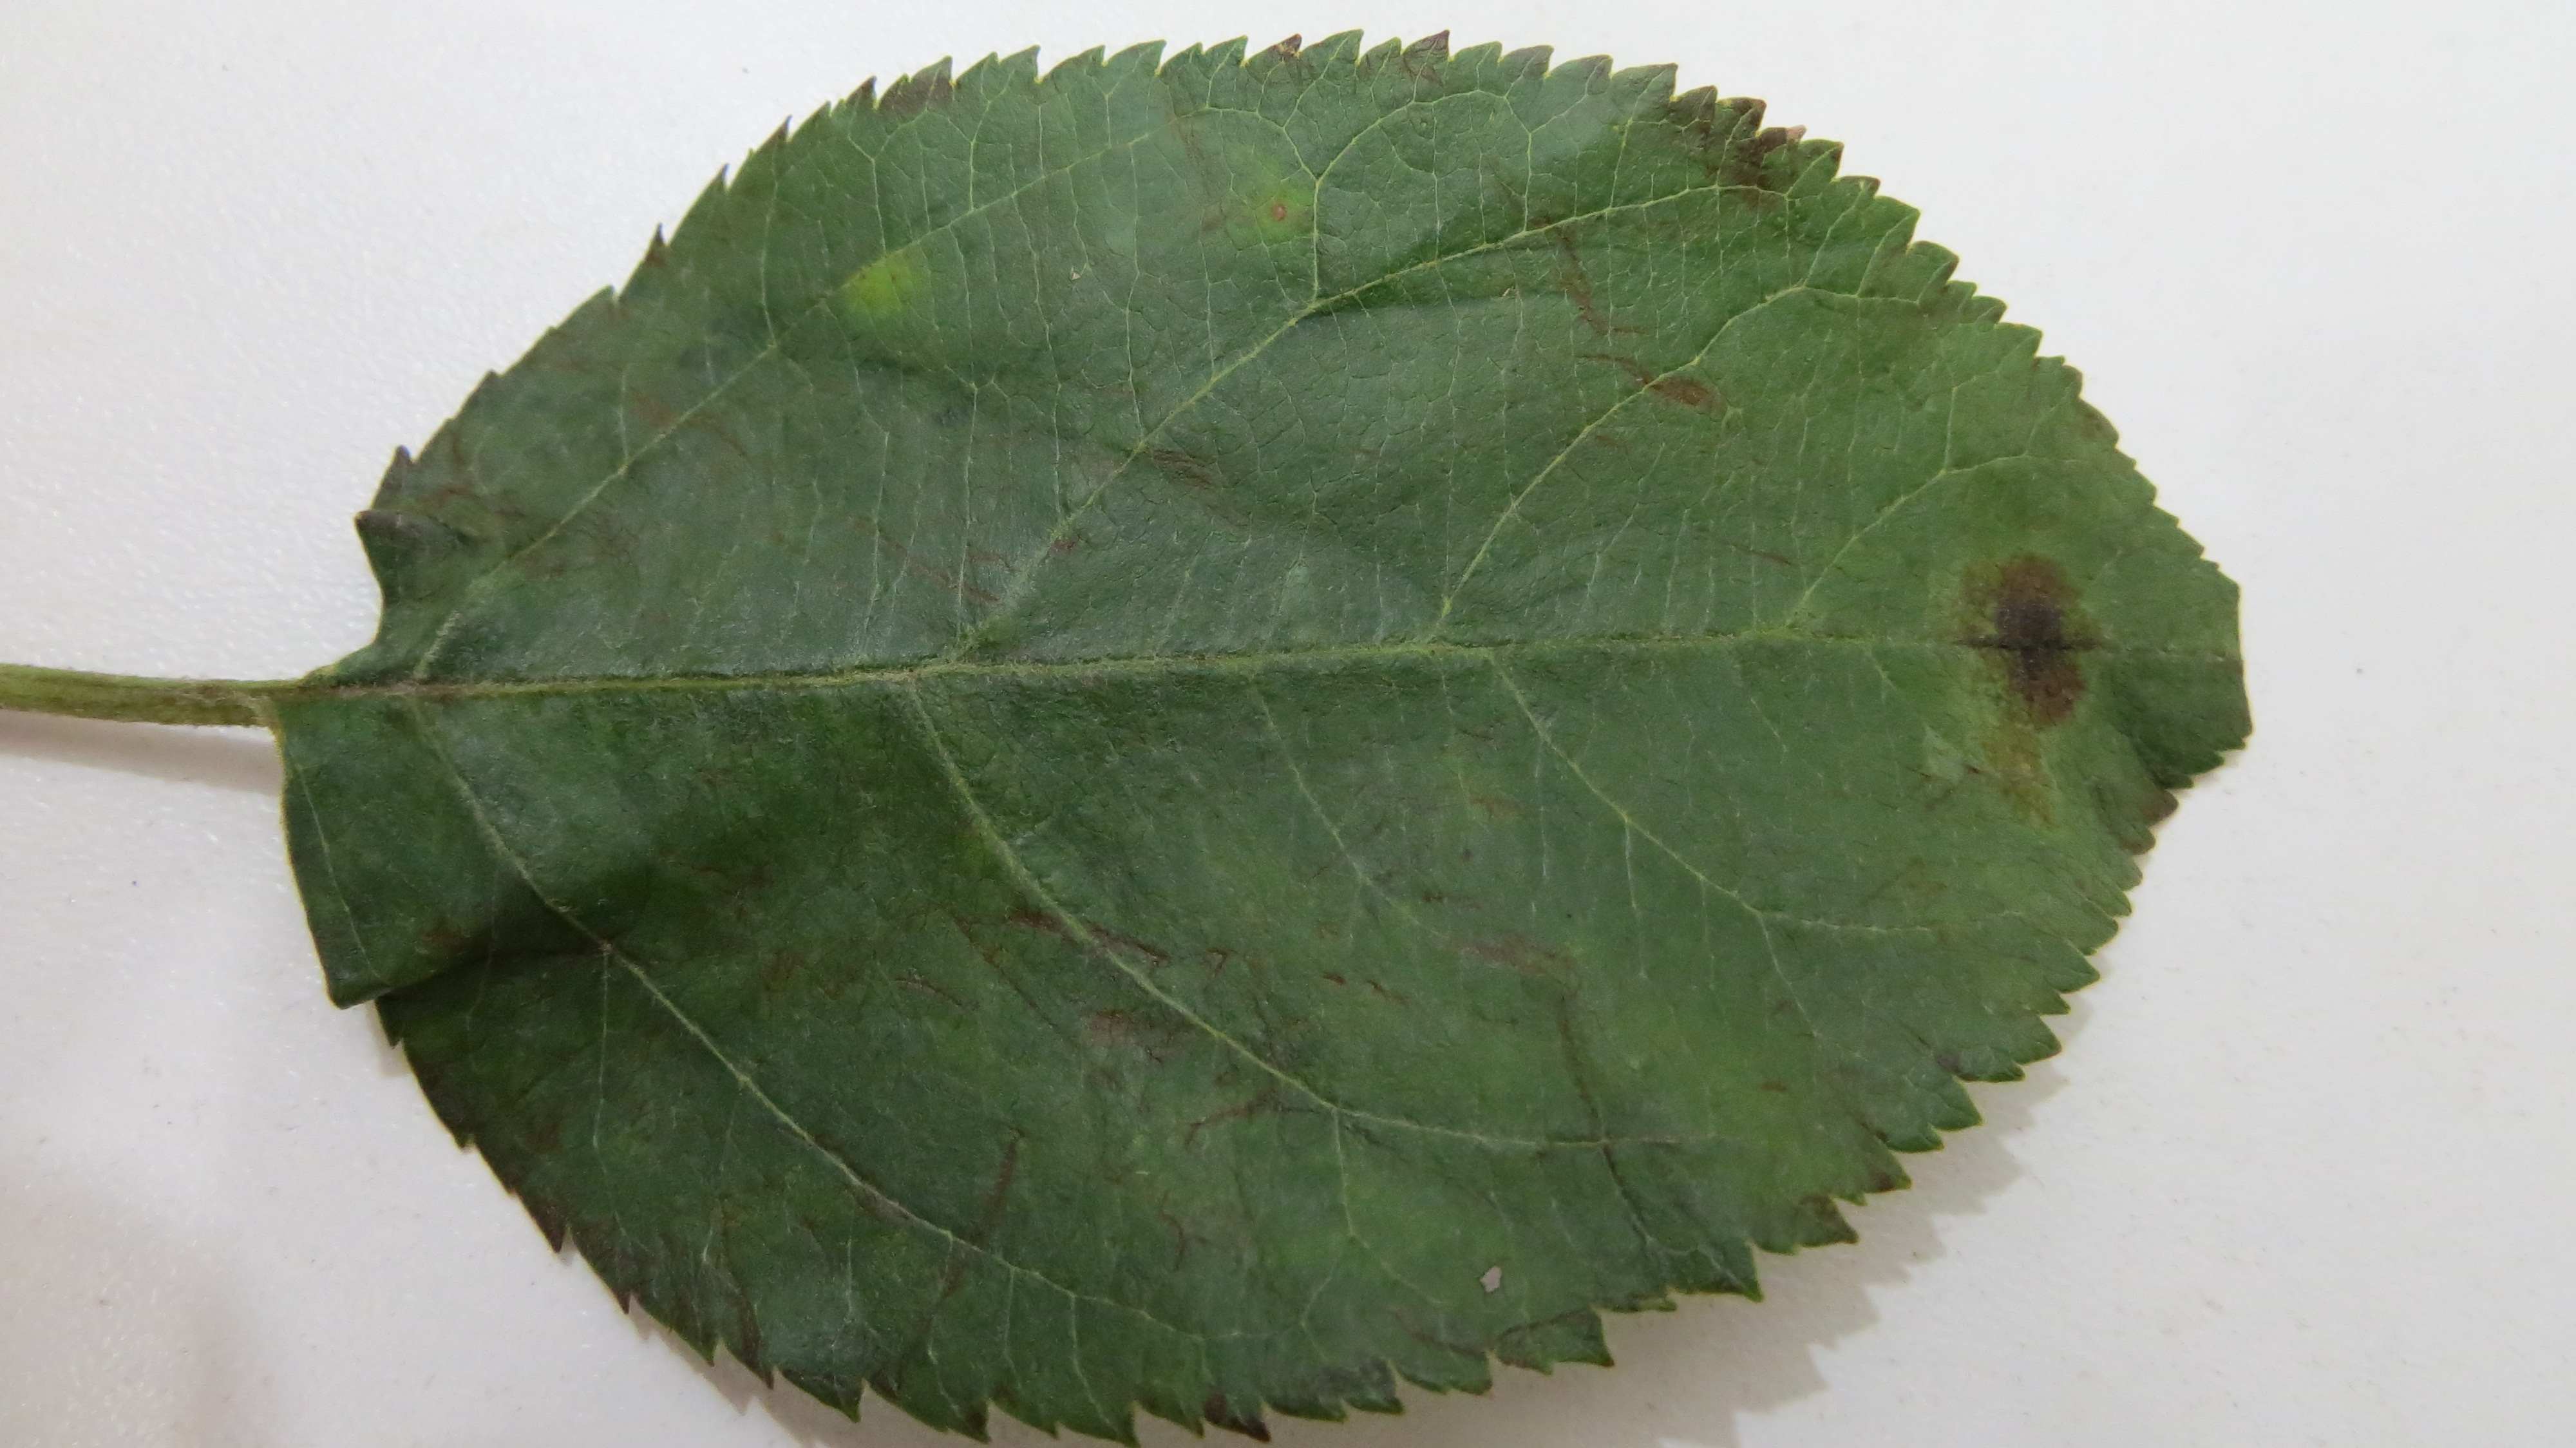sarna: (1941, 536, 2127, 717), (1661, 90, 1810, 218), (1946, 717, 2075, 844)
